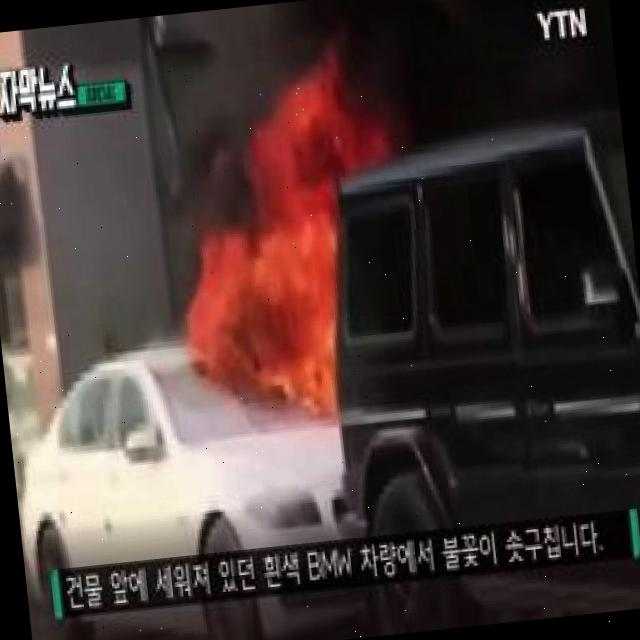fire: (174, 88, 411, 420)
